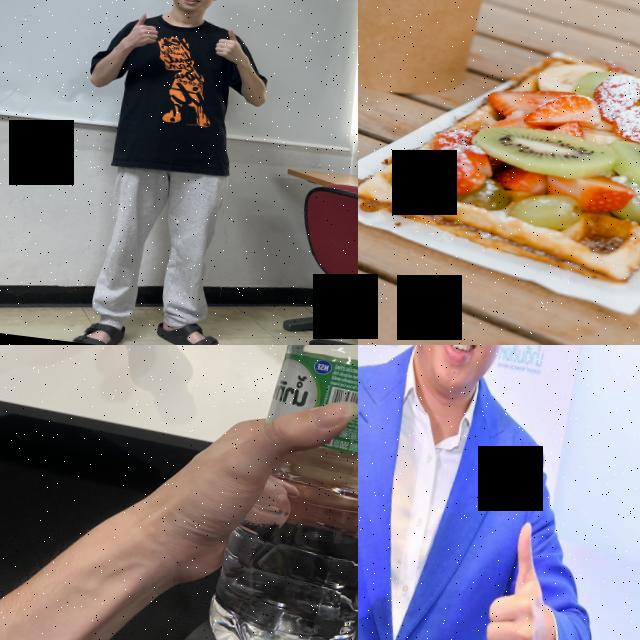bottle: (201, 345, 358, 640)
cup: (358, 0, 512, 109)
